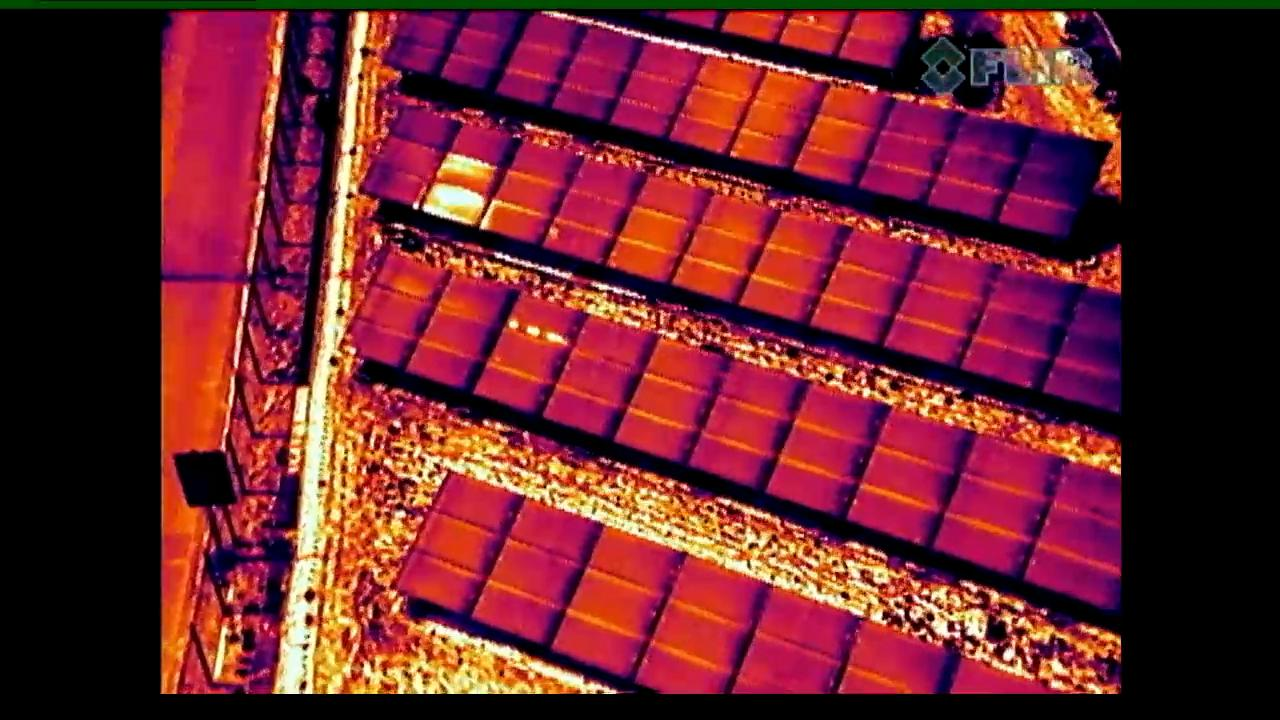hotspot: (470, 298, 588, 422), (545, 162, 645, 267)
